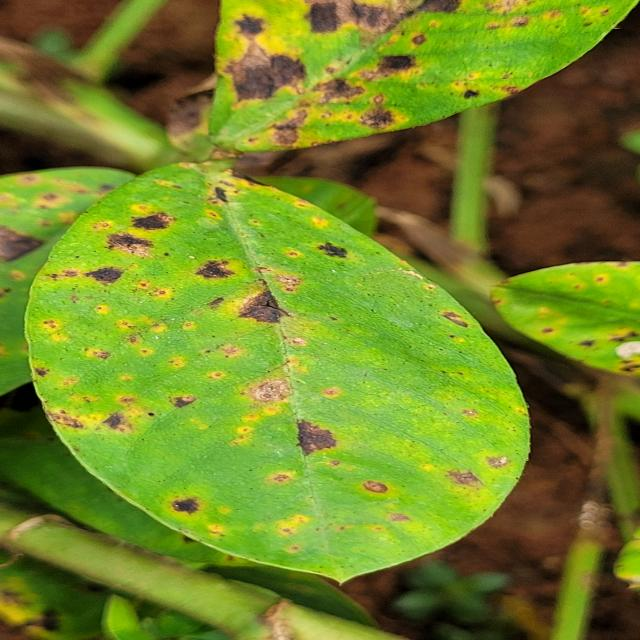Ground nut_tikka leaf spot: (28, 161, 528, 584), (206, 0, 640, 159)
